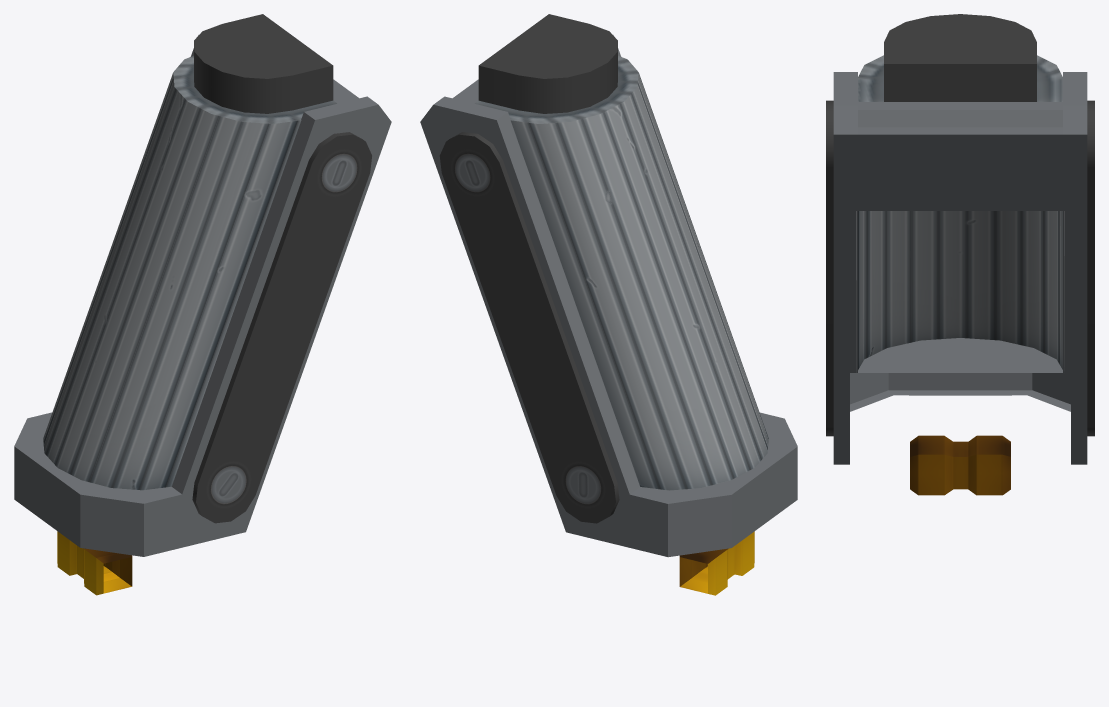
File: env_ruin_container_02_lod0.fbx
3 renders of one model, left to right at view 1: azimuth 30°, elevation 25°; view 2: azimuth 150°, elevation 25°; view 3: azimuth 270°, elevation 25°, orthographic. The views are drawn at different scales.
Visible parts, largest first — view 1: env_ruin_container_02_lod0; view 2: env_ruin_container_02_lod0; view 3: env_ruin_container_02_lod0.
Part boxes in pixels (bbox=[...]): env_ruin_container_02_lod0: bbox=[14, 14, 391, 595]; env_ruin_container_02_lod0: bbox=[420, 14, 797, 595]; env_ruin_container_02_lod0: bbox=[826, 14, 1094, 495].
Bounding box in the file's own units: 47.34 × 92.39 × 35.42.
